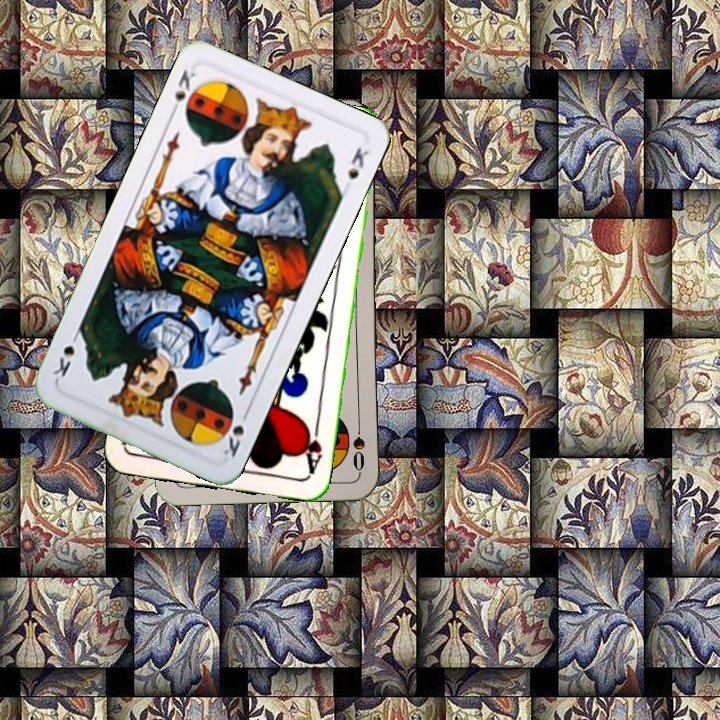HA: (298, 418, 325, 477)
SK: (166, 65, 203, 120), (219, 405, 252, 460)
SO: (348, 415, 368, 474)
